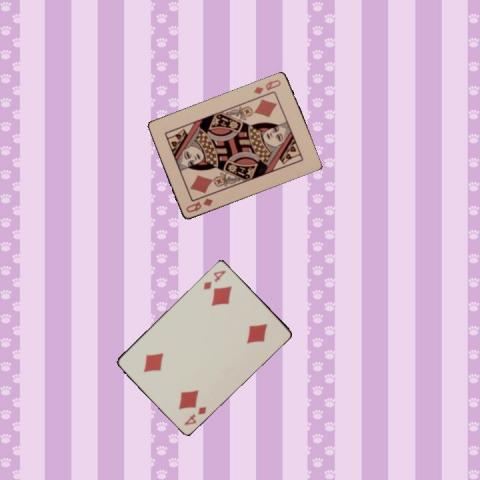4d: (200, 266, 227, 290), (181, 403, 208, 427)
Qd: (183, 195, 214, 214), (251, 77, 282, 96)
